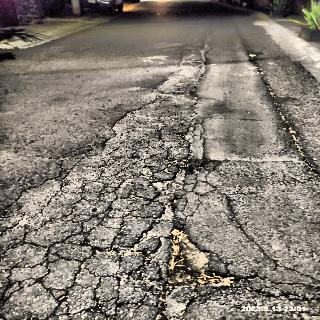alligator-crack: (10, 120, 254, 315)
crack: (237, 38, 292, 112), (273, 115, 320, 180)
